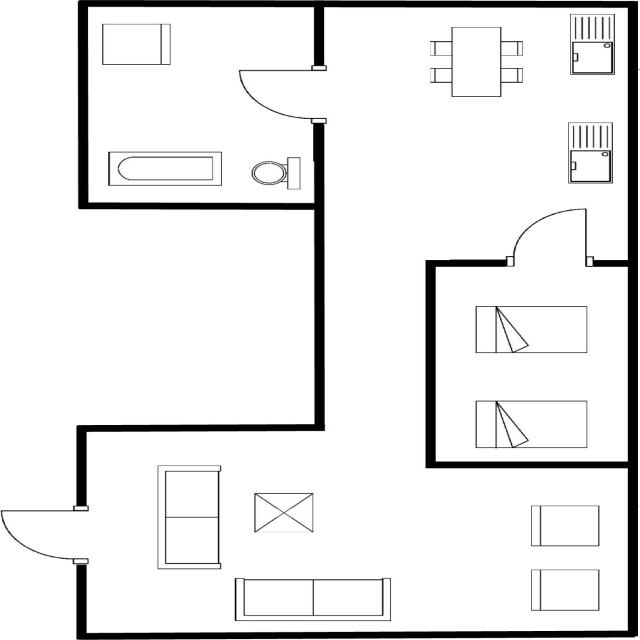bed: (470, 301, 594, 358), (468, 395, 592, 452)
coffee_table: (248, 490, 321, 536)
dining_table: (420, 22, 531, 102)
large_sink: (244, 154, 305, 194)
large_sofa: (150, 461, 228, 573), (231, 574, 397, 624)
sink: (563, 8, 621, 80), (563, 119, 616, 186)
small_sofa: (522, 563, 606, 616), (522, 501, 608, 551), (95, 20, 176, 70)
tub: (102, 148, 228, 190)
